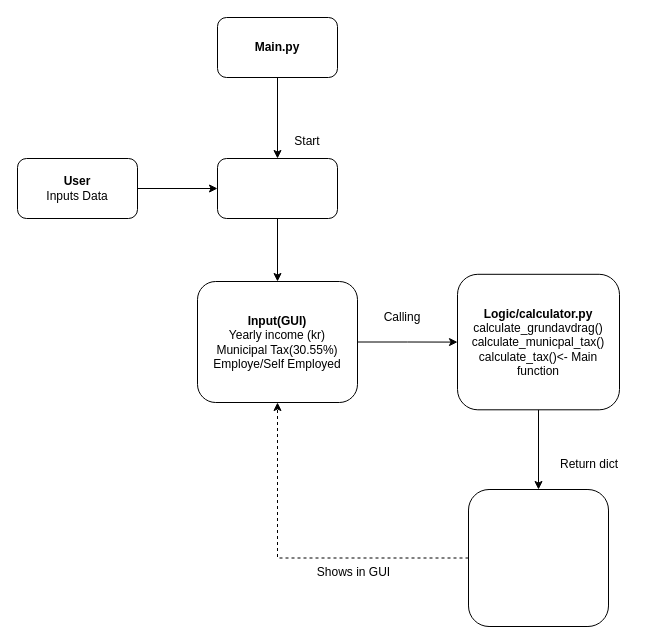
This 646x644 diagram has some shape labels left out. The centre of each missing label's shape, as x and y in pixels:
"gui/app.py Window, input, results" goes at (277,188).
"Results(GUI) Basetax Municipal tax/State tax Total tax/Net tax" goes at (538,557).
